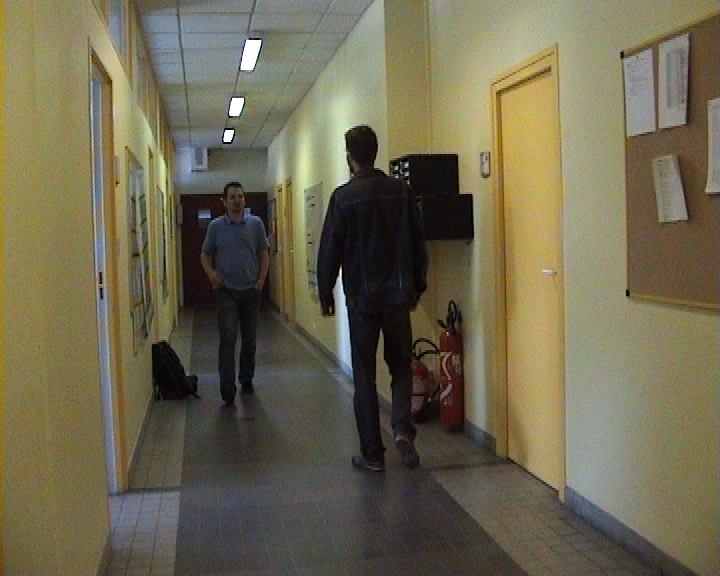leave bag unattended: (129, 295, 299, 418)
